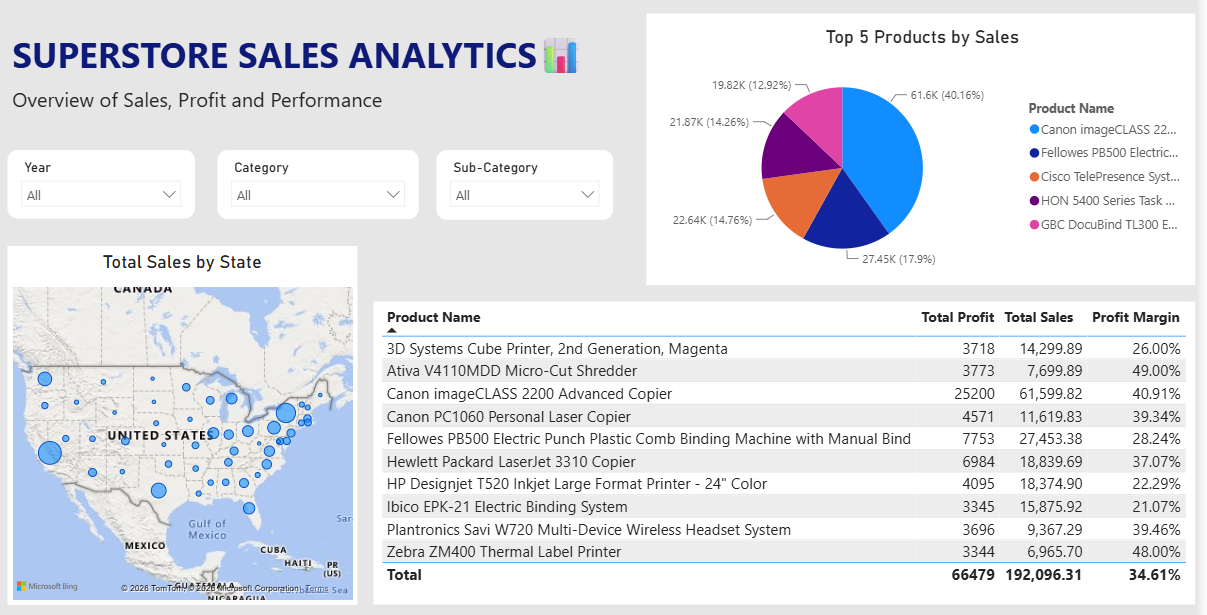

The page's visual inventory and layout, read from the dashboard file:
{"tool":"powerbi","page":{"name":"Product Analysis","canvas":[1280,720],"ordinal":2},"visuals":[{"type":"textbox","box":[20.7,84.3,623.5,71.6],"z":0},{"type":"textbox","box":[20.7,141.6,704.6,74.8],"z":1000},{"type":"pieChart","title":"Top 5 Products by Sales","fields":{"Category":["superstore.Product Name"],"Y":["superstore.Total Sales"]},"box":[698.3,71.6,582.2,287.9],"z":2000},{"type":"slicer","fields":{"Values":["superstore.Category"]},"box":[243.4,216.3,213.1,73.2],"z":3000},{"type":"slicer","fields":{"Values":["superstore.Sub-Category"]},"box":[475.6,216.3,187.1,74.2],"z":4000},{"type":"slicer","fields":{"Values":["DateTable.Date.Variation.Date Hierarchy.Year"]},"box":[20.7,216.3,198.4,72.6],"z":5000},{"type":"tableEx","fields":{"Values":["superstore.Product Name","superstore.Total Profit","superstore.Total Sales","superstore.Profit Margin"]},"box":[408.8,377,871.7,321.3],"z":6000},{"type":"map","title":"Total Sales by State","fields":{"Category":["superstore.State"],"Size":["superstore.Total Sales"]},"box":[20.7,318.1,370.6,380.2],"z":7000}]}

Visuals, with their boxes on the page's 1280x720 design canvas (x1, y1, x2, y2). These are canvas units, not pixel positions in the 1207x615 screenshot, which may show the page scaled, cropped or inside an application window:
textbox: detection(21, 84, 644, 156)
textbox: detection(21, 142, 725, 216)
"Top 5 Products by Sales" pieChart: detection(698, 72, 1280, 360)
slicer - superstore.Category: detection(243, 216, 456, 290)
slicer - superstore.Sub-Category: detection(476, 216, 663, 290)
slicer - DateTable.Date.Variation.Date Hierarchy.Year: detection(21, 216, 219, 289)
tableEx - superstore.Product Name x superstore.Total Profit: detection(409, 377, 1280, 698)
"Total Sales by State" map: detection(21, 318, 391, 698)
